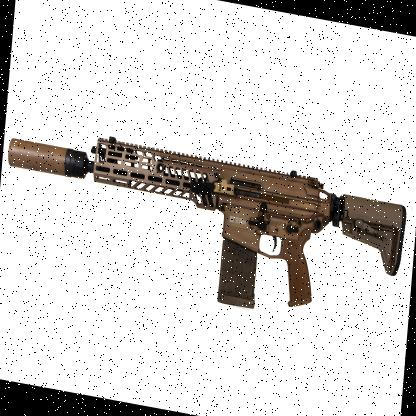rifle: (35, 47, 416, 268)
